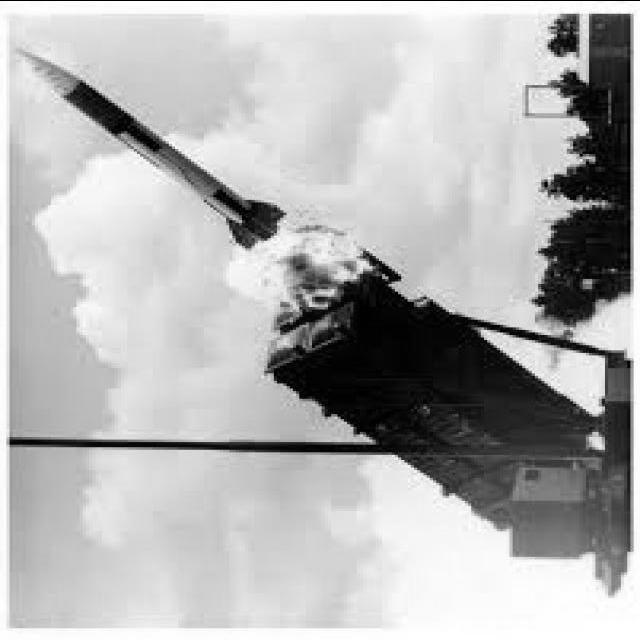missile: (13, 33, 298, 251)
